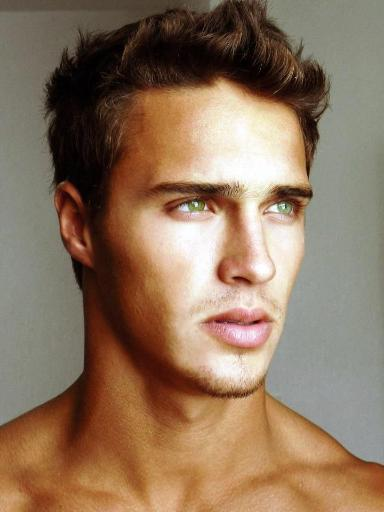left_eye: (260, 197, 307, 222)
left_lip_corner: (268, 316, 279, 331)
right_eye: (160, 196, 221, 221)
right_lip_corner: (197, 314, 216, 336)
